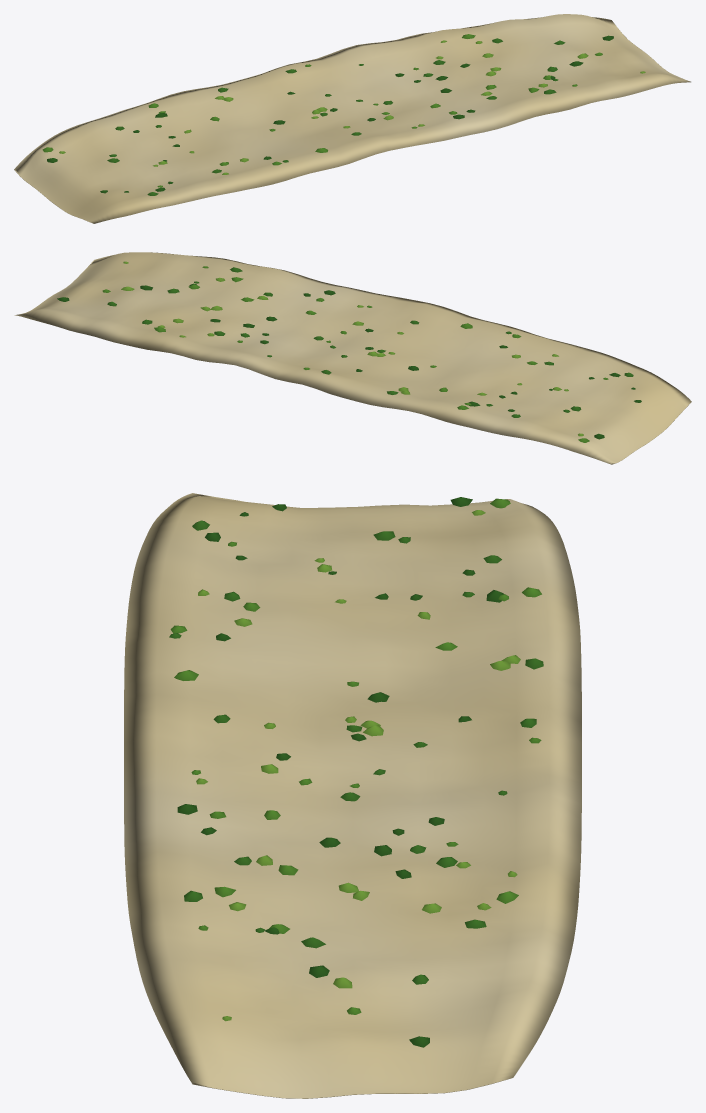
The model's file is pasta.glb.
3 renders of one model, top to bottom at view 1: azimuth 30°, elevation 25°; view 2: azimuth 150°, elevation 25°; view 3: azimuth 270°, elevation 25°, orthographic. The views are drawn at different scales.
Visible parts, largest first — view 1: pasta_alho; view 2: pasta_alho; view 3: pasta_alho.
Part boxes in pixels (x1,y1,x2,y2): pasta_alho: (14, 14, 690, 223); pasta_alho: (14, 252, 691, 464); pasta_alho: (124, 493, 581, 1098).
Size of the model in its own units: 0.252 by 0.0145 by 0.0836.
